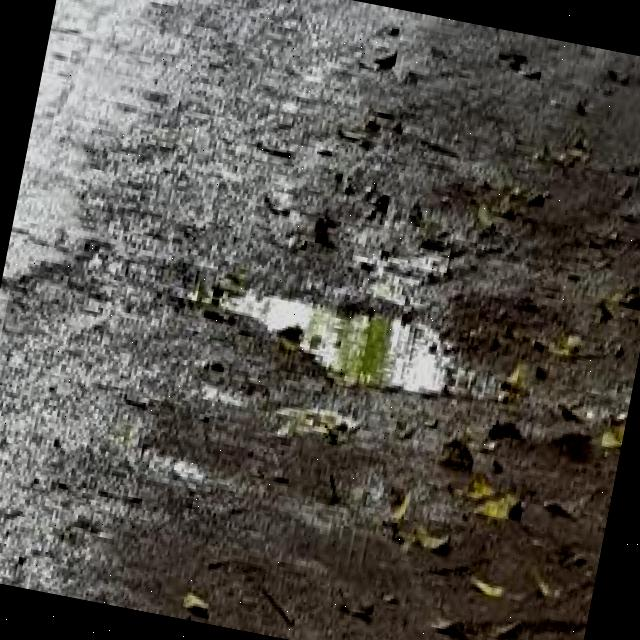stagnation: (204, 266, 484, 417)
